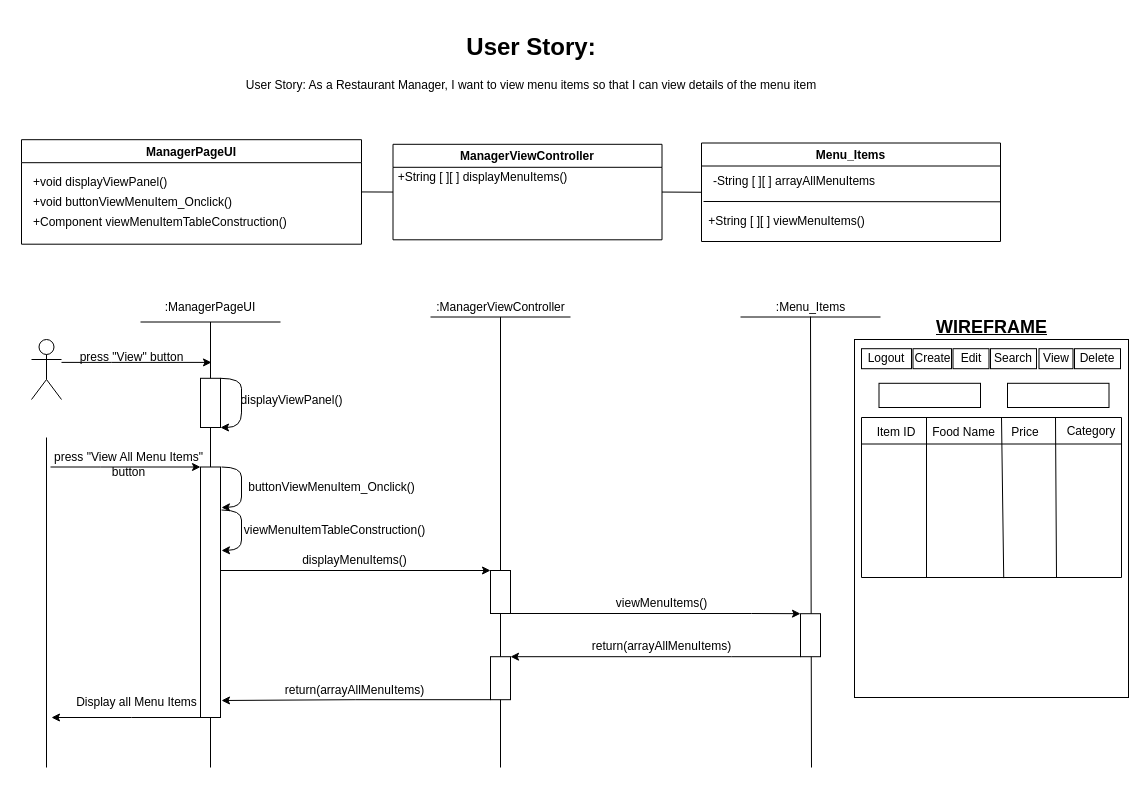
Image size: 1146x786. Some labels were removed from this diagram. Here are the shapes that lost their labels. From the top down, the centre of each, then its label:
the point at 46,369: Restaurant Manager
the point at 929,395: Menu Items
the point at 1057,395: Coupon
